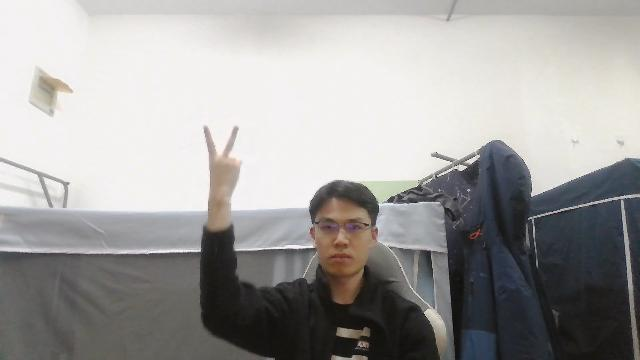yes: (199, 119, 245, 198)
